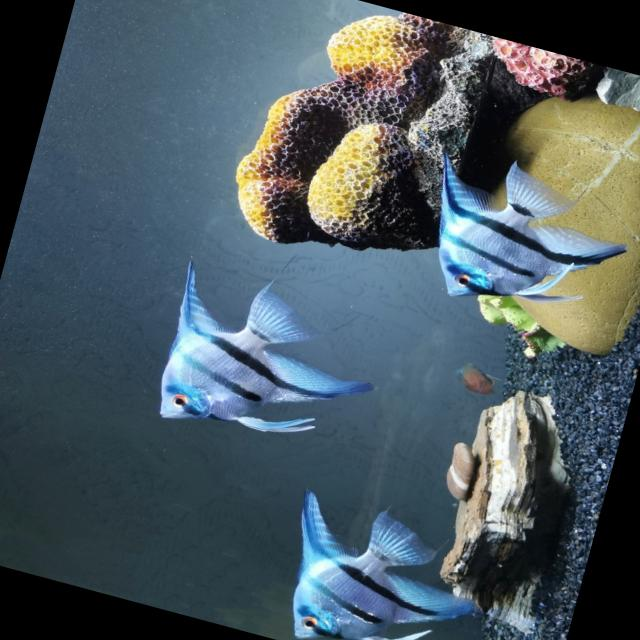AngelFish: (144, 256, 383, 465), (410, 142, 638, 332), (268, 487, 492, 640)
